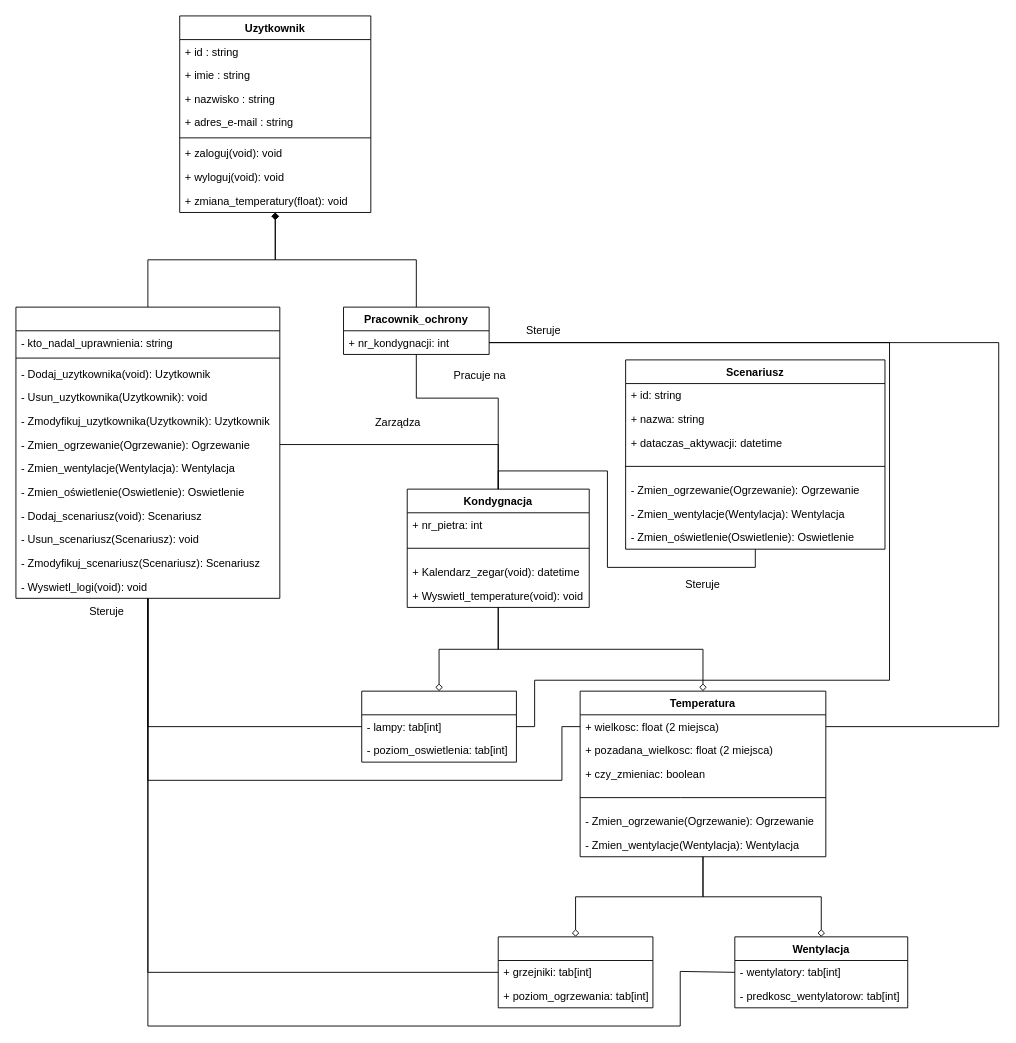
This 1016x1043 diagram has some shape labels left out. The shapes that lost their labels are listed below. From the top down, each one's box as (x1, y1, x2, y2) in pixels, then its label:
(15, 306, 280, 598): Administrator
(361, 690, 516, 762): Oswietlenie
(497, 936, 653, 1008): Ogrzewanie
